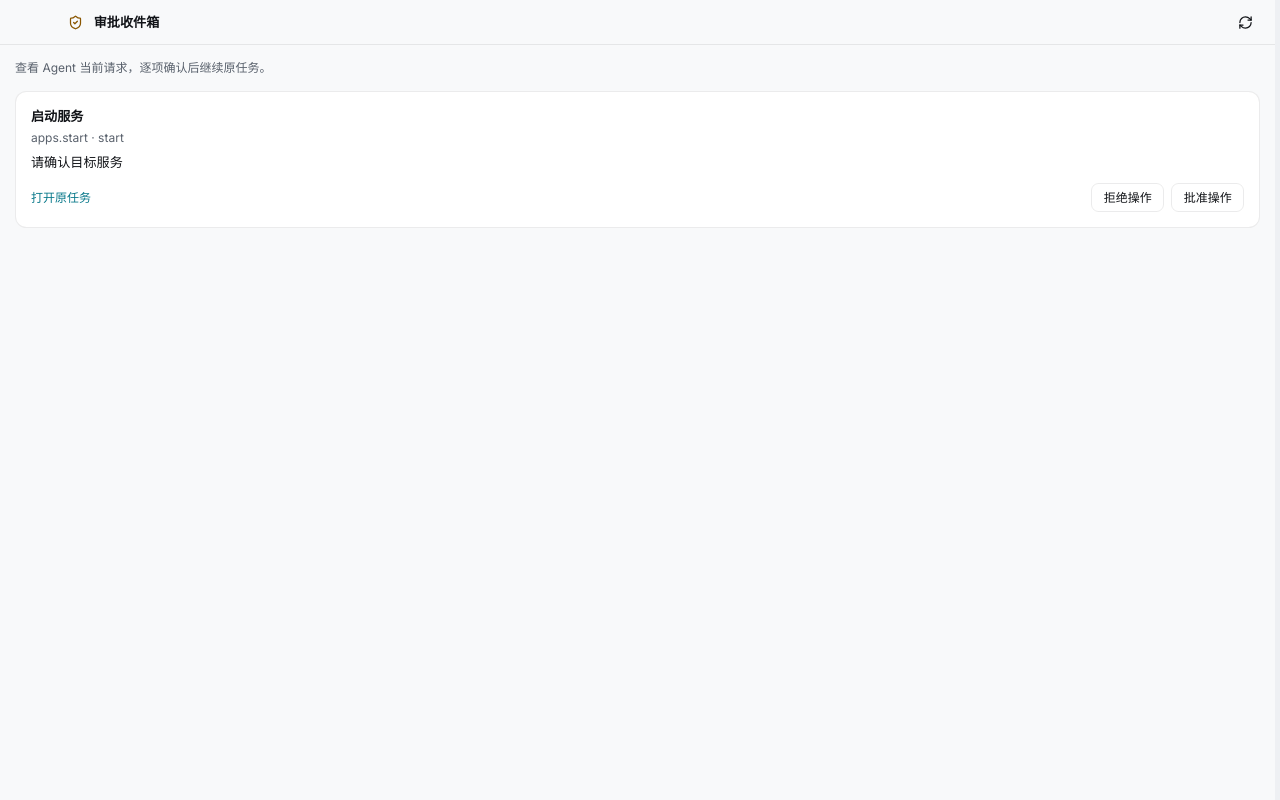
Test: Decision inbox › reviews a request and submits its version to the original task
Click the button "打开原任务".
click(61, 198)  # box [31,183,91,212]
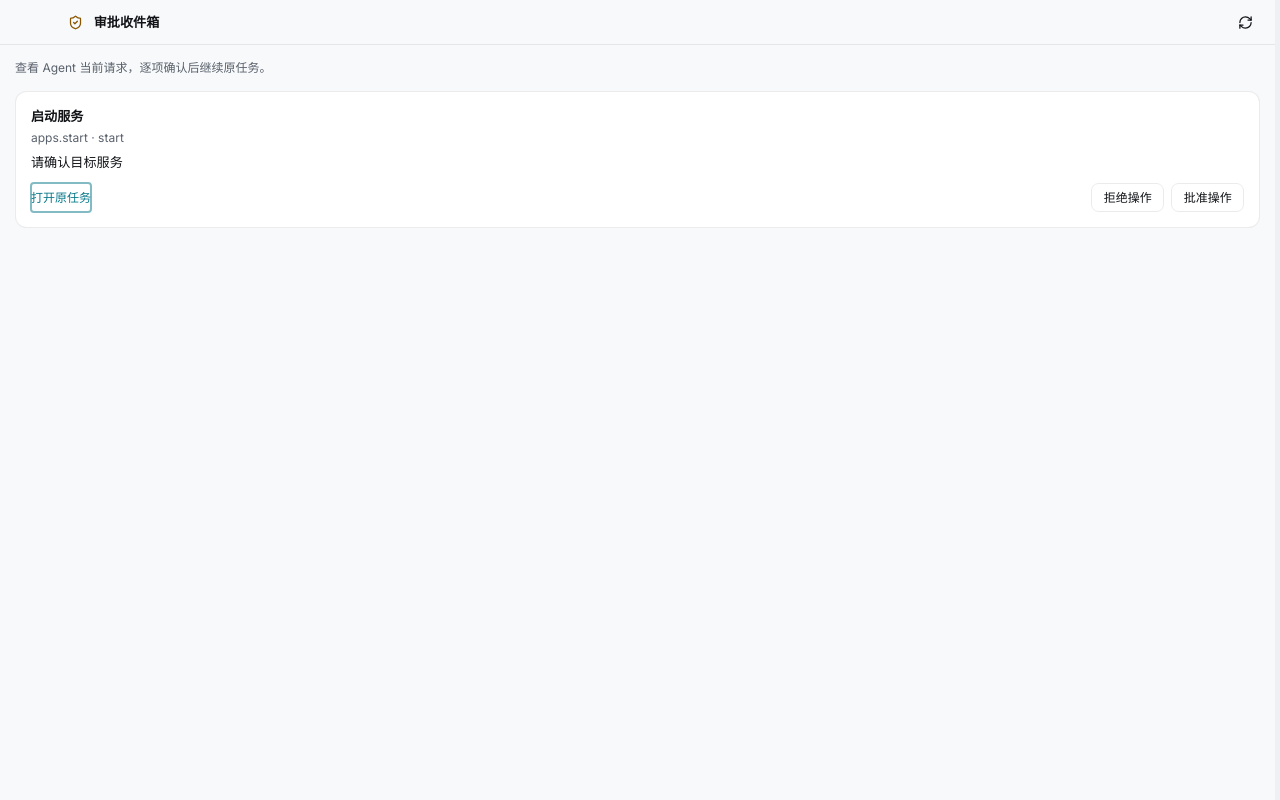
Click the button "批准操作".
click(1208, 198)  # box [1172,183,1244,212]
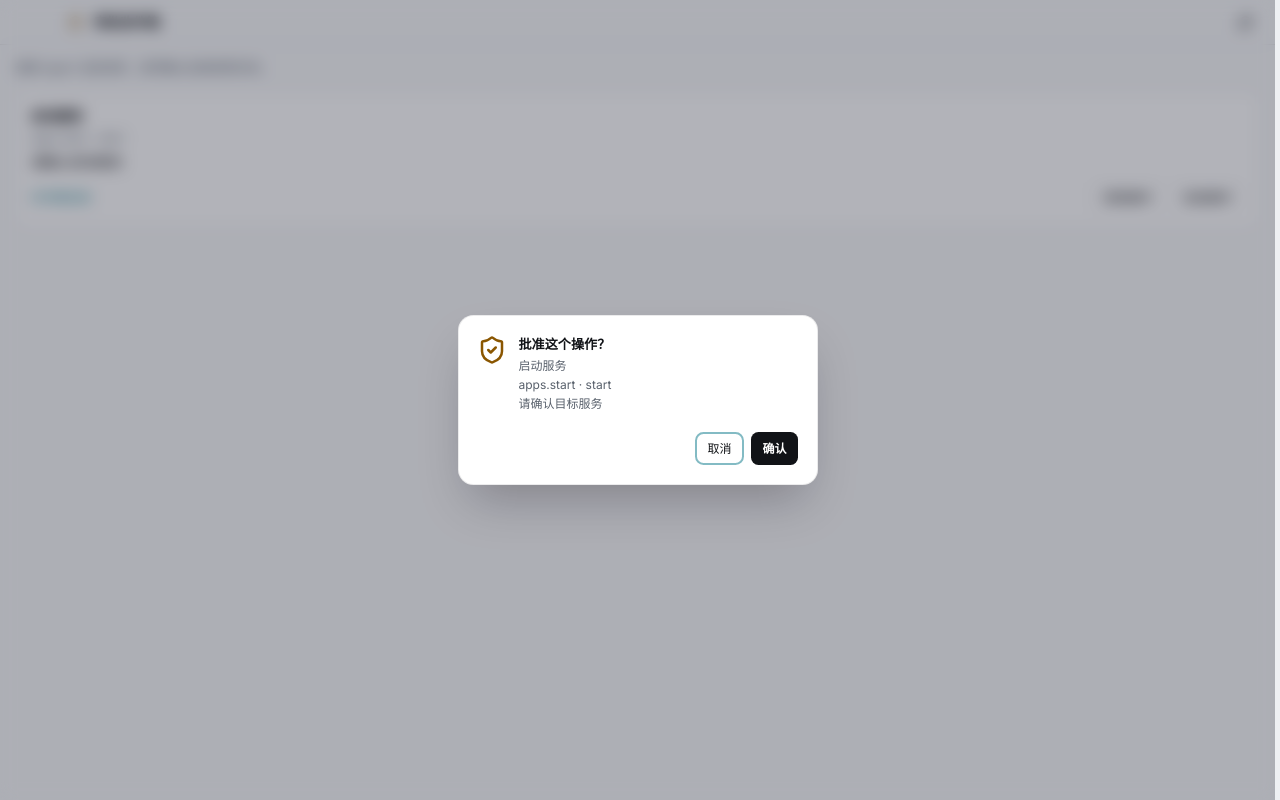
Result: the dialog shows "请确认目标服务" at [518,396,602,411]
Click the button "确认".
click(774, 449)  # box [751,432,798,465]
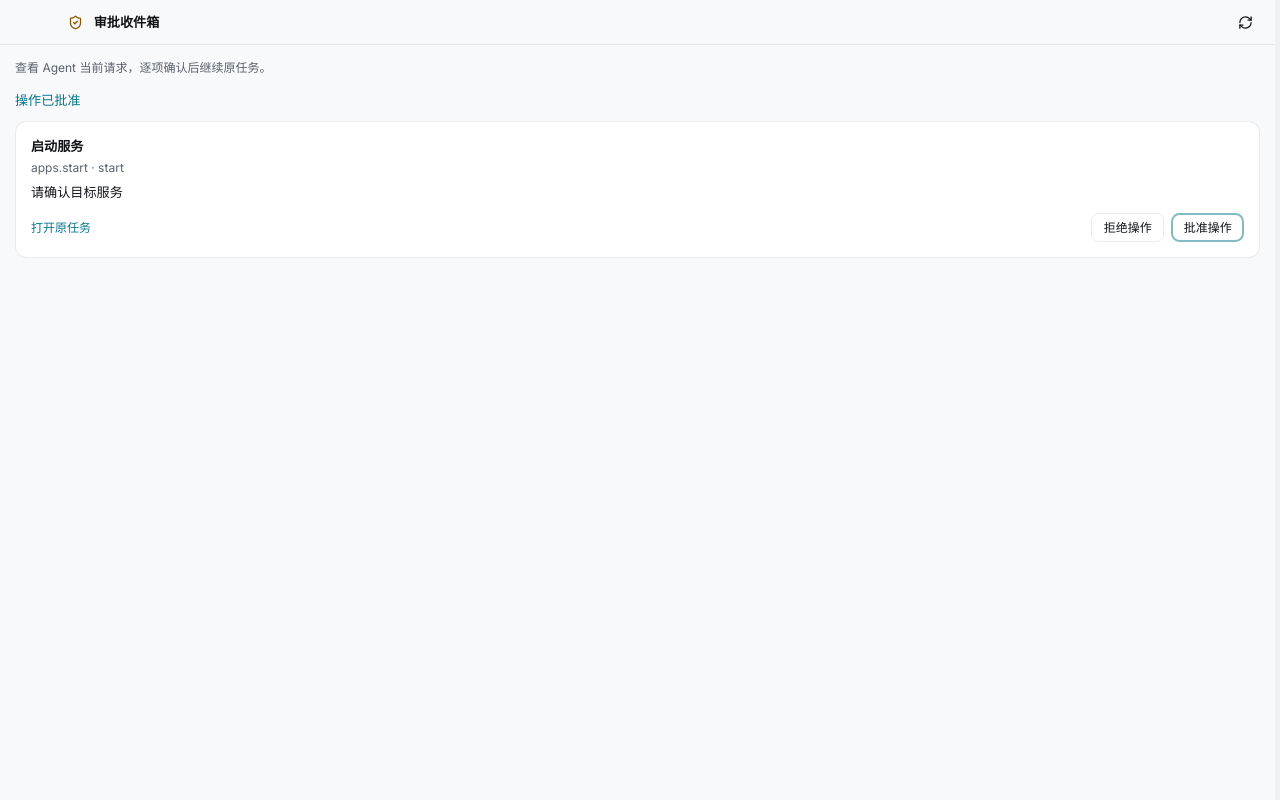
Result: the message reads "操作已批准" at [15,92,81,108]
